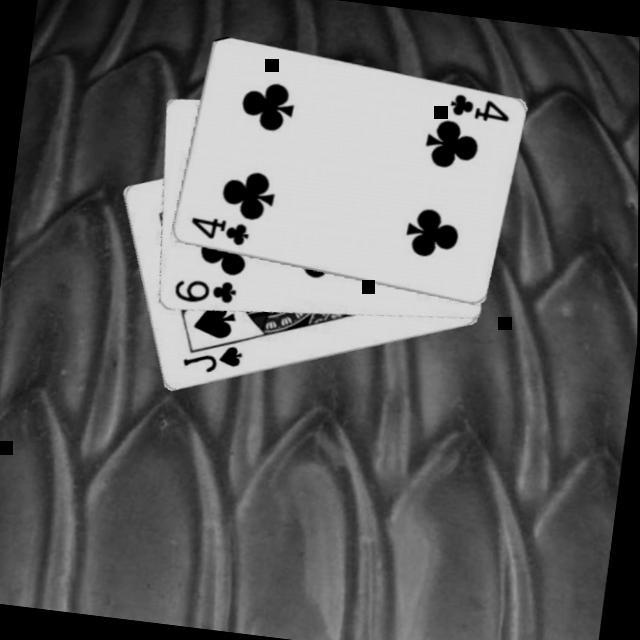4C: (446, 91, 515, 129), (186, 214, 254, 252)
6C: (171, 273, 241, 313)
JS: (179, 339, 247, 382)
